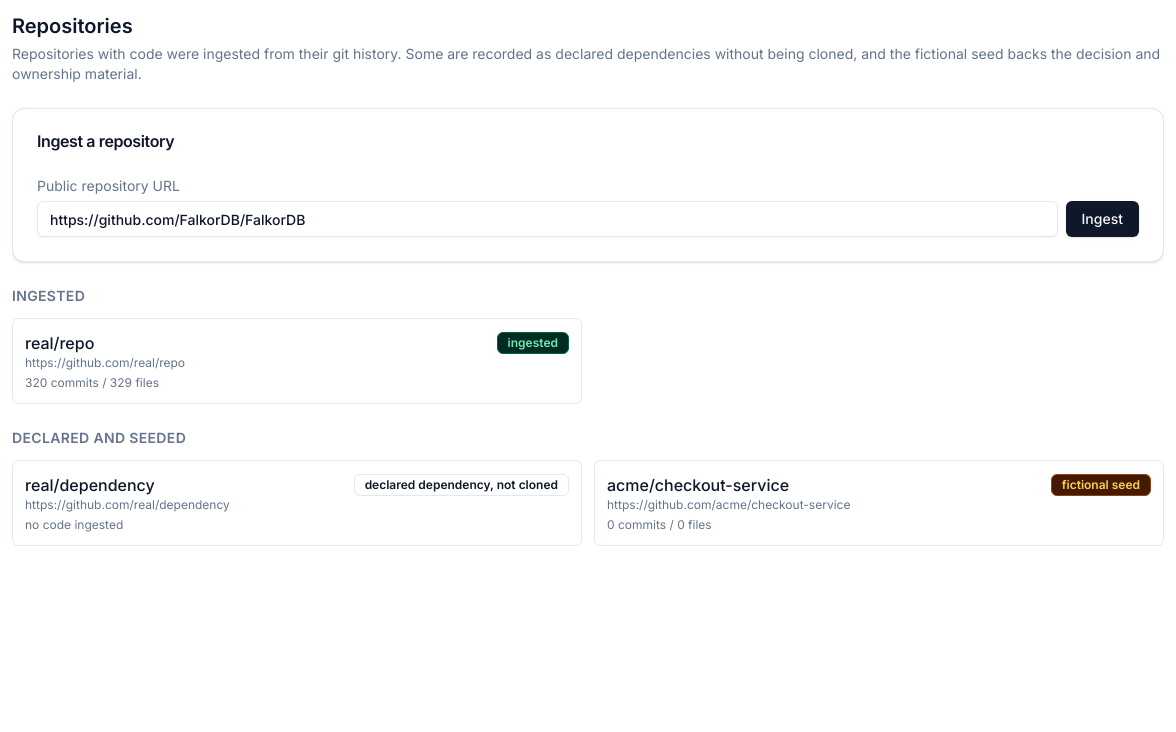
Test: RepositoriesView › does not offer code panels for a repository with no ingested code
The width and height of the screenshot is (1176, 732).
Click the button "acme/checkout-service" at [698, 485], box x1=594 y1=460 x2=1164 y2=546
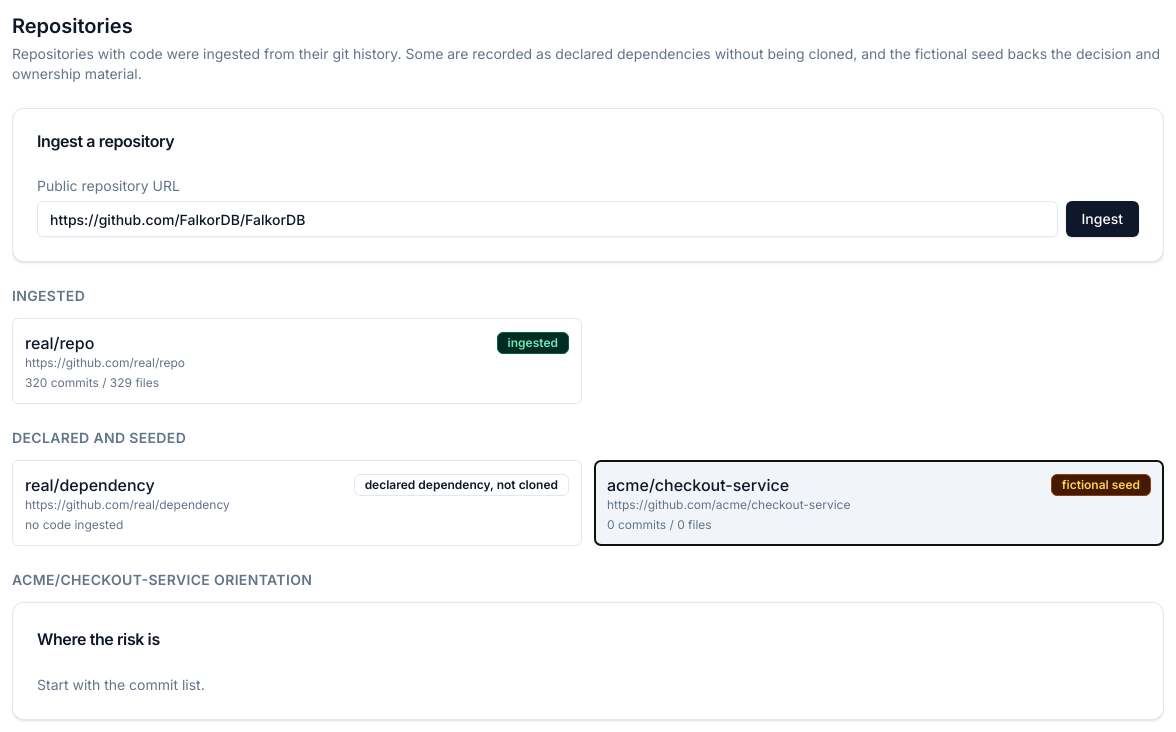
Check: the list item "Start with the commit list." is shown, box x1=37 y1=676 x2=205 y2=693
